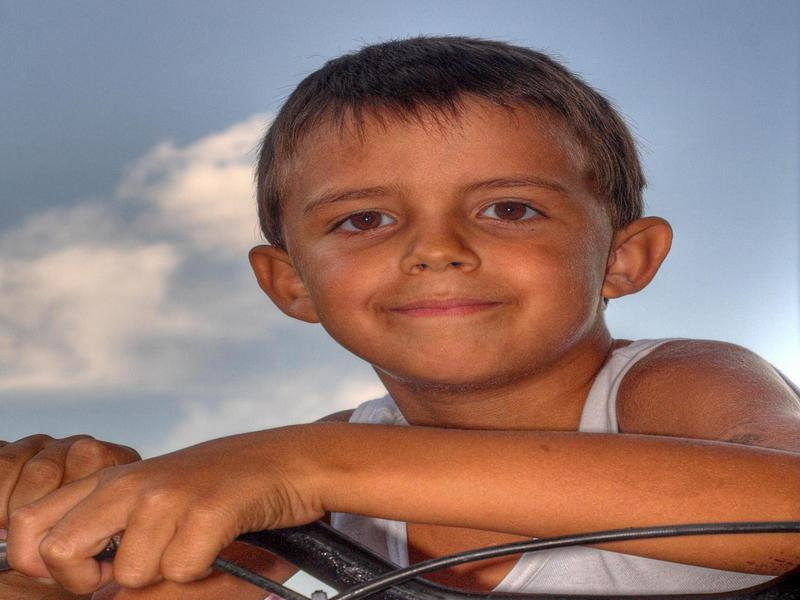person: (1, 35, 800, 600)
